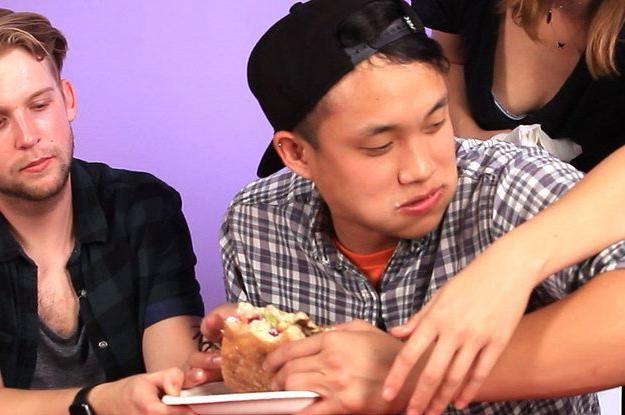Drunk: (336, 77, 456, 238), (0, 49, 69, 197)
